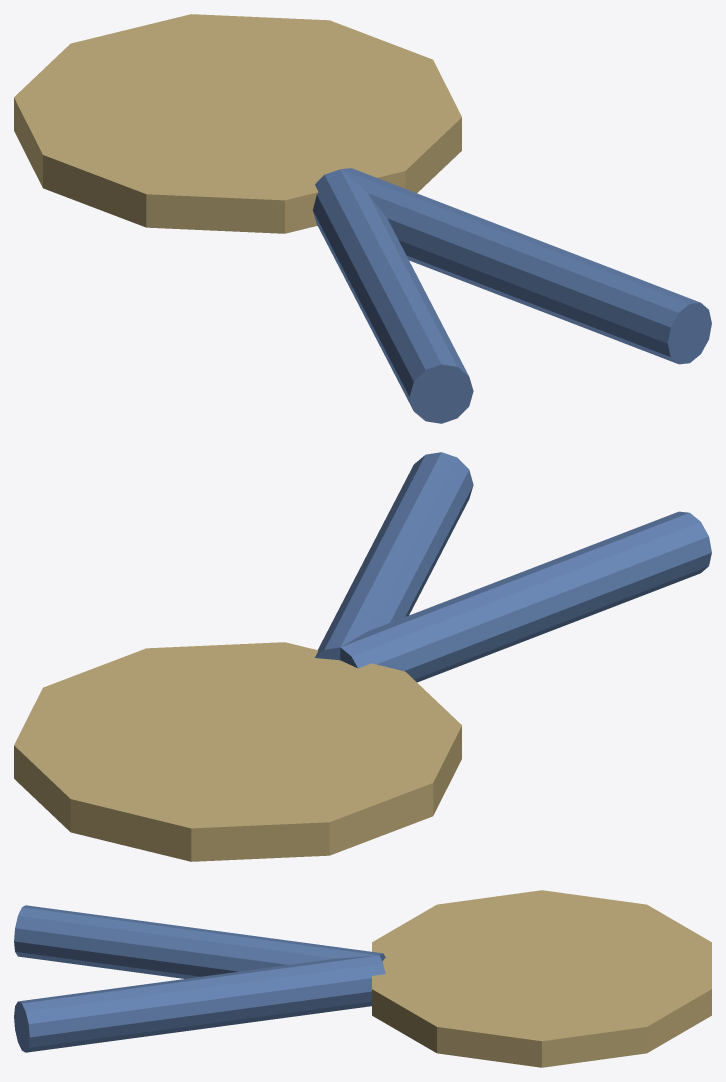
3 views of the same model, one above another, from view 1: azimuth 30°, elevation 25°; view 2: azimuth 150°, elevation 25°; view 3: azimuth 270°, elevation 25° (orthographic). The views are drawn at different scales.
Parts seen in each view (by area): view 1: geometry_0; view 2: geometry_0; view 3: geometry_0.
Boxes of the visible parts, x1,y1,x2,y2 form: geometry_0: (14, 14, 711, 423); geometry_0: (14, 452, 711, 861); geometry_0: (14, 890, 711, 1067).
Size of the model in its own units: 0.11 by 0.02 by 0.2147.
